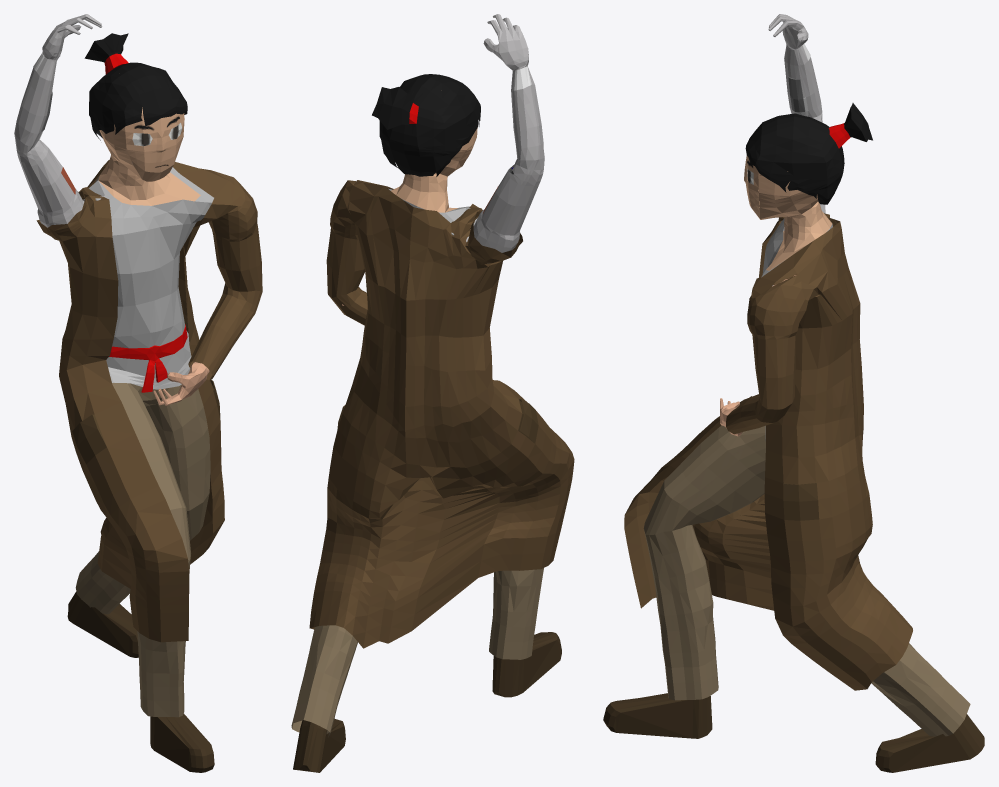
Rendered from Special_Attack_000022.obj.
3 views of the same model, side by side, from view 1: azimuth 30°, elevation 25°; view 2: azimuth 150°, elevation 25°; view 3: azimuth 270°, elevation 25° (orthographic). The views are drawn at different scales.
Parts seen in each view (by area): view 1: Hair_Cube.004; view 2: Hair_Cube.004; view 3: Hair_Cube.004.
Part boxes in pixels (x1,y1,x2,y2): Hair_Cube.004: (14,14,262,772); Hair_Cube.004: (291,14,574,772); Hair_Cube.004: (603,14,984,772).
Size of the model in its own units: 1.33 by 3.98 by 1.97.
